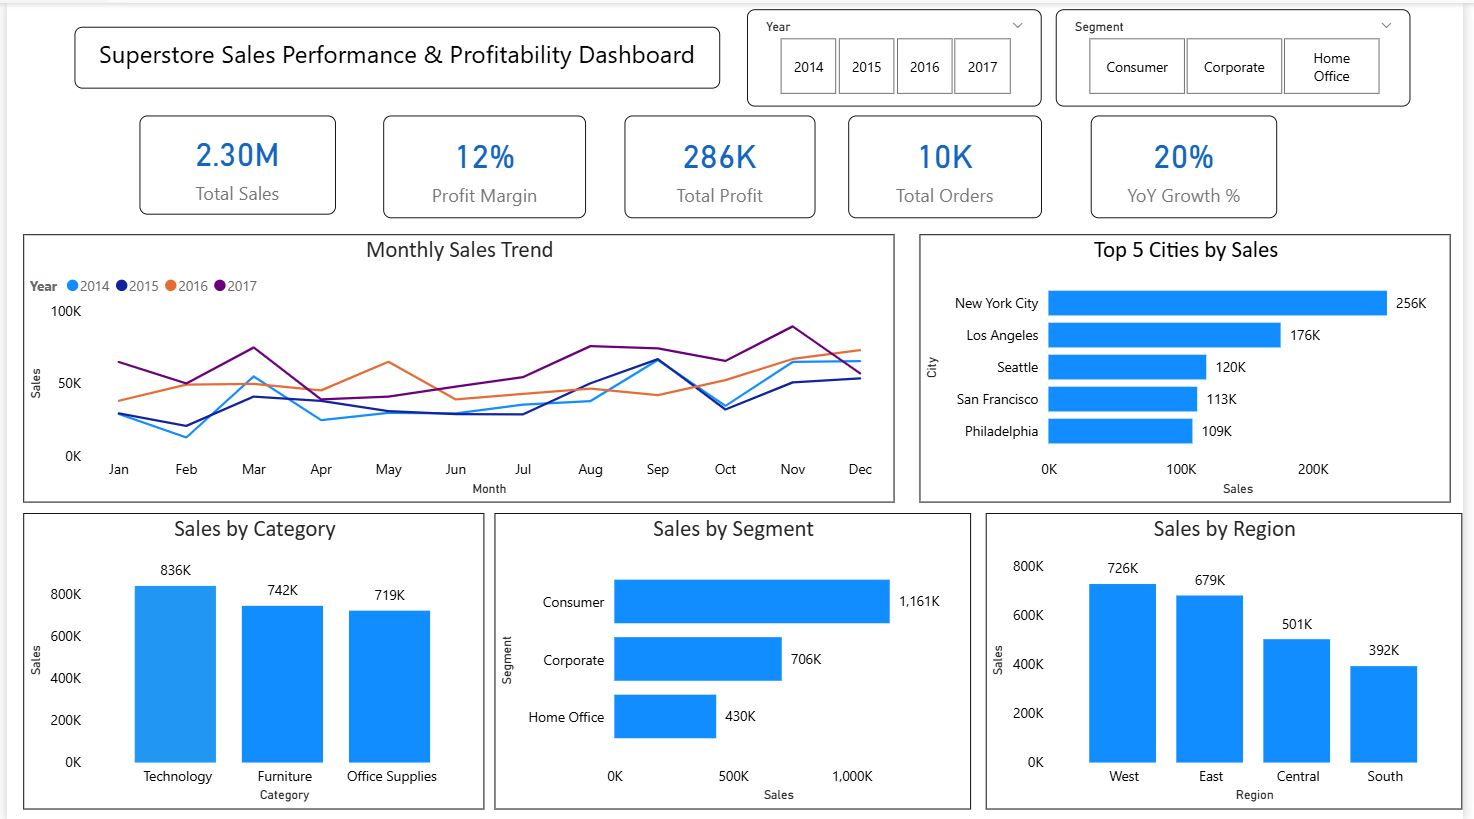

This screenshot's page, from the dashboard's own definition file:
{"tool":"powerbi","page":{"name":"Sales Overview","canvas":[1280,720],"ordinal":0},"visuals":[{"type":"textbox","box":[59.5,21.4,567.9,54.8],"z":0},{"type":"clusteredColumnChart","title":"Sales by Region","fields":{"Category":["superstore.Region"],"Y":["measure.TOTAL SALES"]},"box":[860.7,448.8,419,260.7],"z":1000},{"type":"clusteredColumnChart","title":"Sales by Category","fields":{"Category":["superstore.Category"],"Y":["measure.TOTAL SALES"]},"box":[14.3,448.8,406,260.7],"z":2000},{"type":"slicer","fields":{"Values":["Date Table.Year"]},"box":[651.2,6,259.5,85.7],"z":3000},{"type":"slicer","fields":{"Values":["superstore.Segment"]},"box":[922.5,5.5,312.3,85.8],"z":4000},{"type":"card","fields":{"Values":["measure.total sales"]},"box":[116.7,98.8,172.6,86.9],"z":5000},{"type":"card","fields":{"Values":["measure.yoy growth"]},"box":[953.6,98.8,164.3,90.5],"z":6000},{"type":"lineChart","title":"Monthly Sales Trend","fields":{"Category":["Date Table.Month"],"Y":["measure.TOTAL SALES"],"Series":["Date Table.Year"]},"box":[13.8,203.8,766.2,236.2],"z":7000},{"type":"card","fields":{"Values":["measure.PROFIT MARGIN"]},"box":[331,98.8,178.6,90.5],"z":8000},{"type":"card","fields":{"Values":["Sum(superstore.Profit)"]},"box":[542.9,98.8,167.9,90.5],"z":9000},{"type":"card","fields":{"Values":["CountNonNull(superstore.Order ID)"]},"box":[740.5,98.8,170.2,90.5],"z":10000},{"type":"clusteredBarChart","title":"Sales by Segment","fields":{"Y":["Sum(superstore.Sales)"],"Category":["superstore.Segment"]},"box":[428.6,448.8,419,260.7],"z":11000},{"type":"clusteredBarChart","title":"Top 5 Cities by Sales","fields":{"Category":["superstore.City"],"Y":["measure.TOTAL SALES"]},"box":[802.5,203.8,467.5,236.2],"z":13000}]}

Visuals, with their boxes in screenshot pixels (x1, y1, x2, y2), scaled from the page's 1280x720 canvas onto the 1474x819 screenshot:
textbox: rect(69, 24, 722, 87)
"Sales by Region" clusteredColumnChart: rect(991, 511, 1473, 807)
"Sales by Category" clusteredColumnChart: rect(16, 511, 484, 807)
slicer - Date Table.Year: rect(750, 7, 1049, 104)
slicer - superstore.Segment: rect(1062, 6, 1422, 104)
card - measure.total sales: rect(134, 112, 333, 211)
card - measure.yoy growth: rect(1098, 112, 1287, 215)
"Monthly Sales Trend" lineChart: rect(16, 232, 898, 500)
card - measure.PROFIT MARGIN: rect(381, 112, 587, 215)
card - Sum(superstore.Profit): rect(625, 112, 819, 215)
card - CountNonNull(superstore.Order ID): rect(853, 112, 1049, 215)
"Sales by Segment" clusteredBarChart: rect(494, 511, 976, 807)
"Top 5 Cities by Sales" clusteredBarChart: rect(924, 232, 1462, 500)
